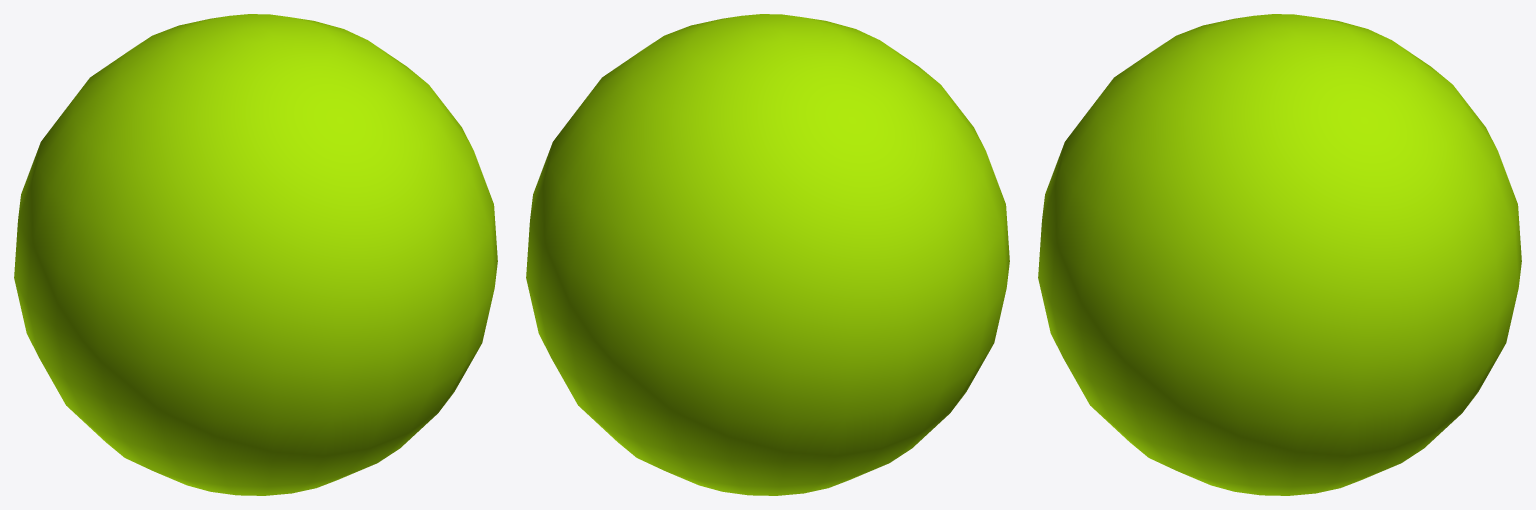
The model's file is MarudaiOgiya.glb.
3 views of the same model, side by side, from view 1: azimuth 30°, elevation 25°; view 2: azimuth 150°, elevation 25°; view 3: azimuth 270°, elevation 25° (orthographic).
Parts seen in each view (by area): view 1: Geom3D; view 2: Geom3D; view 3: Geom3D.
Boxes of the visible parts, bbox=[...] form: Geom3D: bbox=[14, 14, 497, 495]; Geom3D: bbox=[526, 14, 1009, 495]; Geom3D: bbox=[1038, 14, 1521, 495].
Bounding box in the file's own units: 2 × 1.99 × 2.
